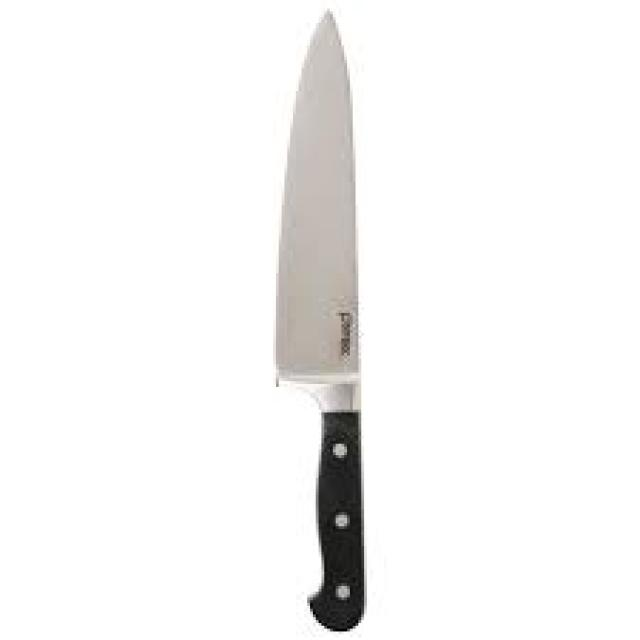knife: (265, 1, 376, 631)
